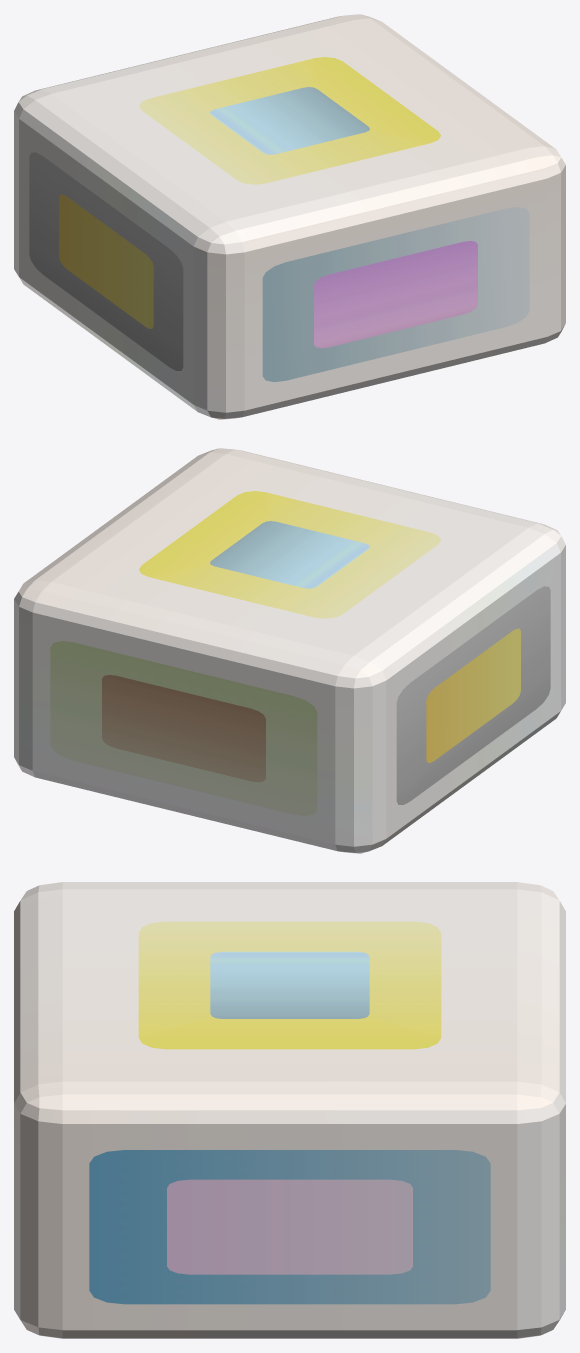
Rendered from Bord.fbx.
The picture shows the model from 3 angles, top to bottom: view 1: azimuth 30°, elevation 25°; view 2: azimuth 150°, elevation 25°; view 3: azimuth 270°, elevation 25°; orthographic projection. The views are drawn at different scales.
Visible parts, largest first — view 1: Cube.001; view 2: Cube.001; view 3: Cube.001.
Boxes of the visible parts, x1,y1,x2,y2 form: Cube.001: (14, 14, 565, 419); Cube.001: (14, 448, 565, 853); Cube.001: (14, 882, 565, 1338).
Size of the model in its own units: 200 by 100 by 200.
1 material, 1 textured.
